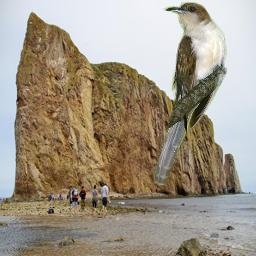Cuckoo: (153, 2, 227, 185)
